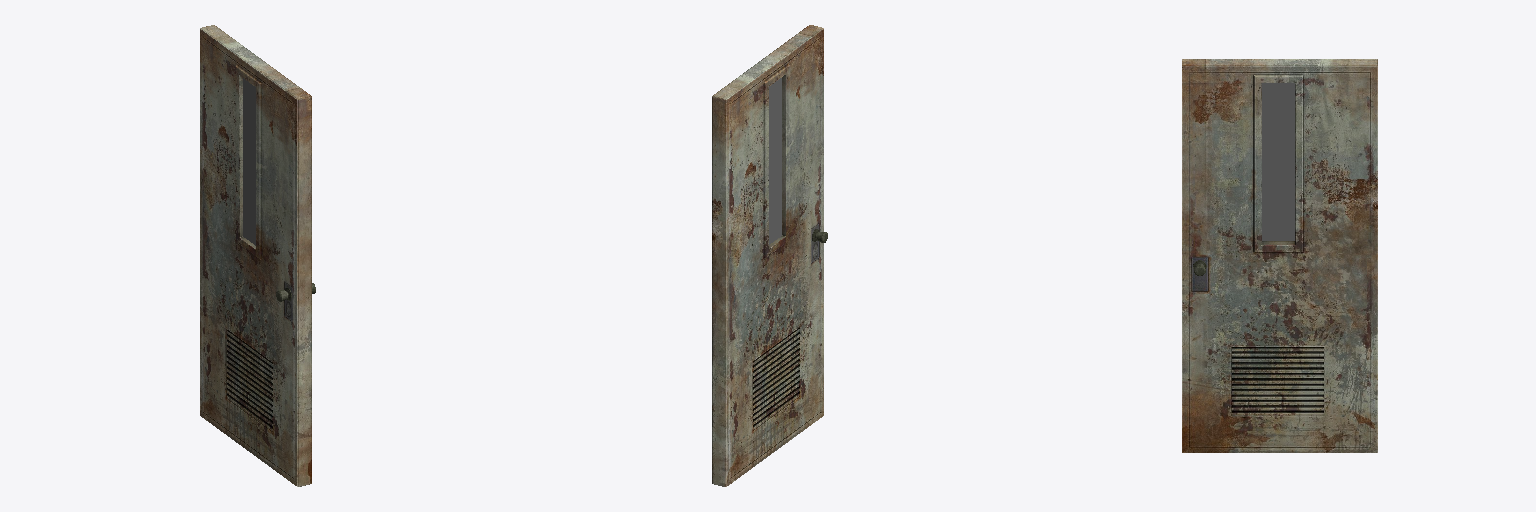
3 renders of one model, left to right at view 1: azimuth 30°, elevation 25°; view 2: azimuth 150°, elevation 25°; view 3: azimuth 270°, elevation 25°, orthographic.
Parts seen in each view (by area): view 1: usa2; view 2: usa2; view 3: usa2.
Part boxes in pixels (x1,y1,x2,y2): usa2: (200,25,315,486); usa2: (712,25,827,486); usa2: (1182,59,1377,452).
Bounding box in the file's own units: 0.233 × 2.44 × 1.12.
3 materials, 1 textured.